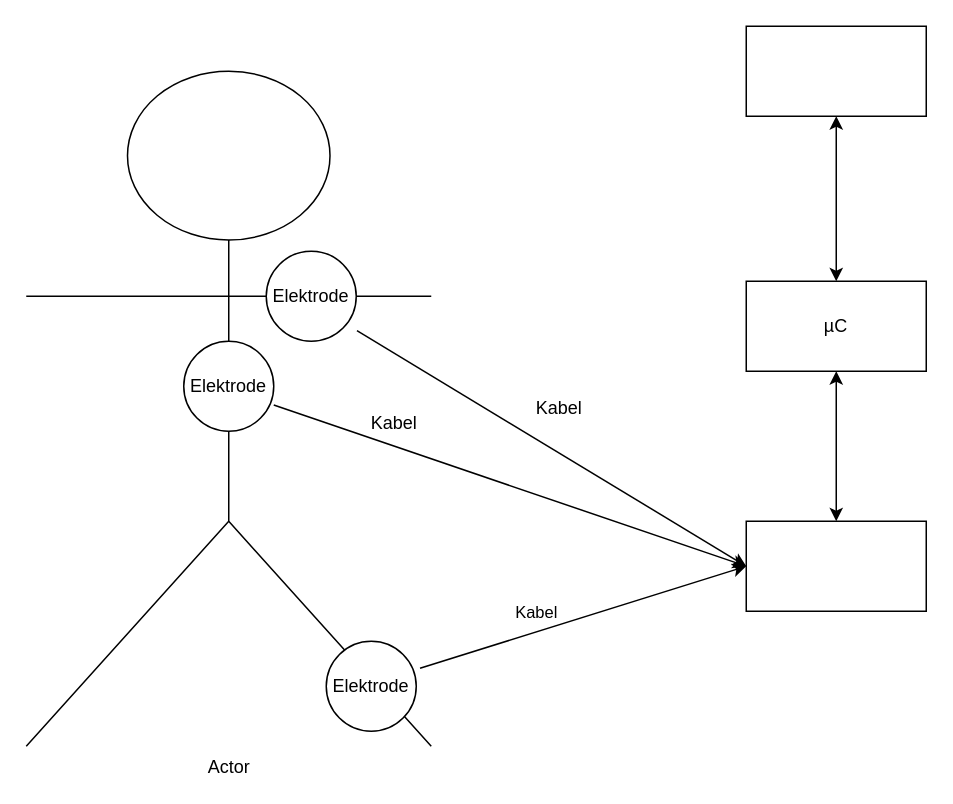
Some shapes in this 953 by 804 pixel diagram are drawn without their labels. Here are the shapes that lost their labels. From the top down, the centre of each, then its label:
(x=835, y=70): Logger
(x=835, y=565): EMG-Sensor
